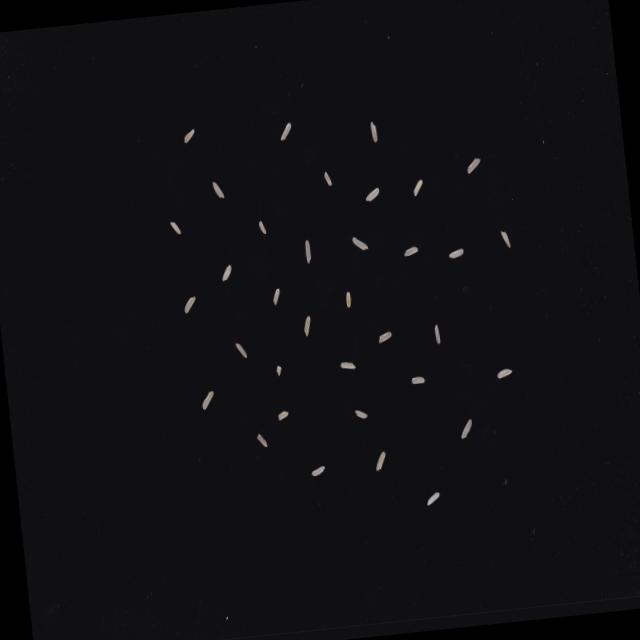Not: (199, 390, 215, 411), (350, 235, 368, 252), (458, 418, 472, 439), (181, 295, 196, 314), (373, 451, 386, 472), (464, 157, 480, 174), (498, 230, 511, 250), (210, 180, 223, 200), (278, 122, 292, 140), (302, 239, 312, 264), (219, 263, 232, 282), (234, 340, 246, 360), (301, 314, 311, 338), (363, 187, 379, 202), (446, 247, 464, 260), (425, 491, 440, 506), (494, 368, 512, 380), (411, 178, 423, 196), (338, 359, 354, 372), (402, 245, 418, 258), (255, 432, 267, 449), (270, 287, 280, 306), (368, 120, 376, 143), (168, 220, 180, 235), (182, 129, 194, 144), (376, 331, 391, 343), (322, 170, 332, 187), (432, 324, 440, 345), (353, 408, 367, 419), (310, 466, 325, 476), (276, 409, 288, 421), (410, 375, 424, 384), (344, 290, 351, 308), (257, 220, 265, 234), (274, 364, 281, 377)
